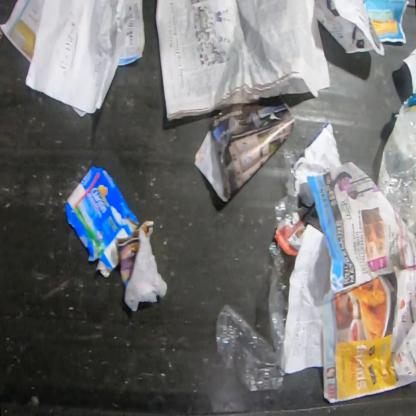cardboard: (66, 166, 140, 279)
soft_plastic: (216, 242, 296, 392), (376, 95, 415, 239), (275, 148, 305, 226), (408, 93, 416, 113)
